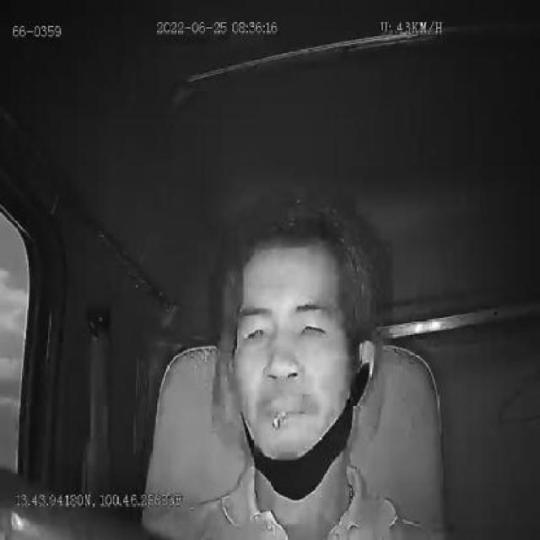smoking: (273, 410, 286, 430)
